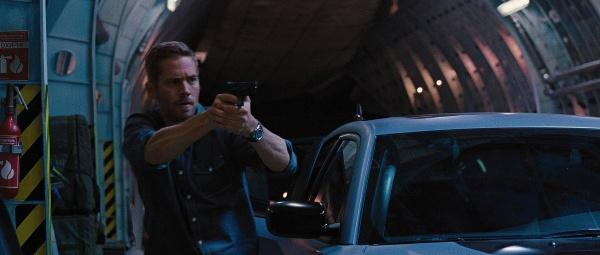Gun: (222, 80, 259, 107)
